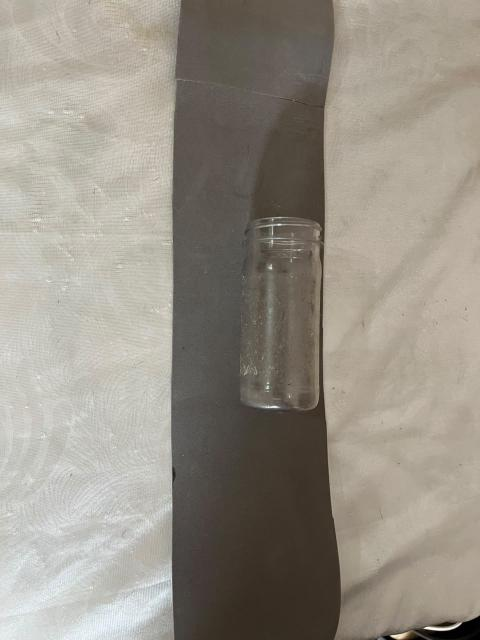PET: (225, 174, 397, 481)
